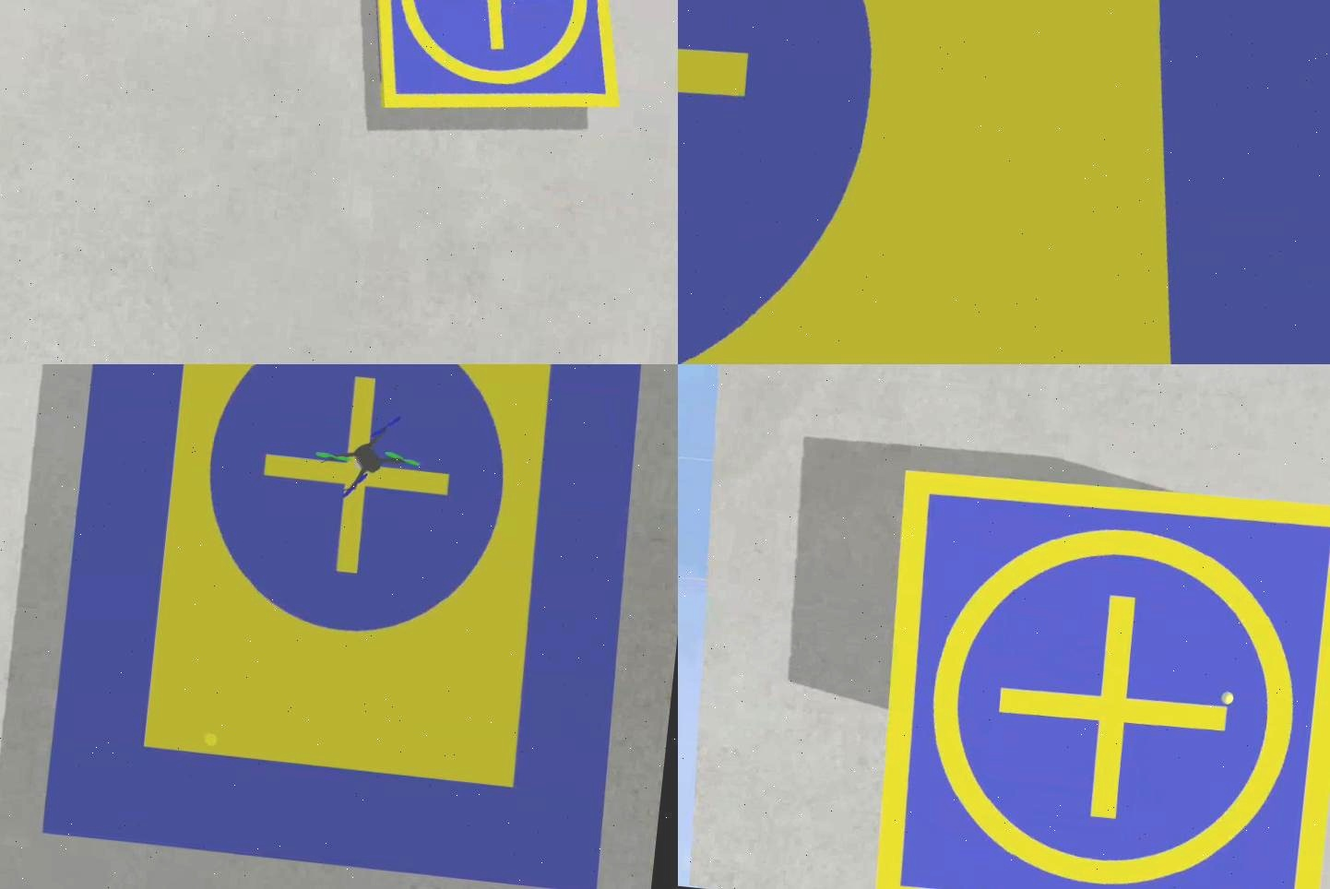large_base: (40, 365, 664, 889), (678, 1, 1330, 365)
small_base: (857, 460, 1330, 889), (344, 1, 643, 137)
